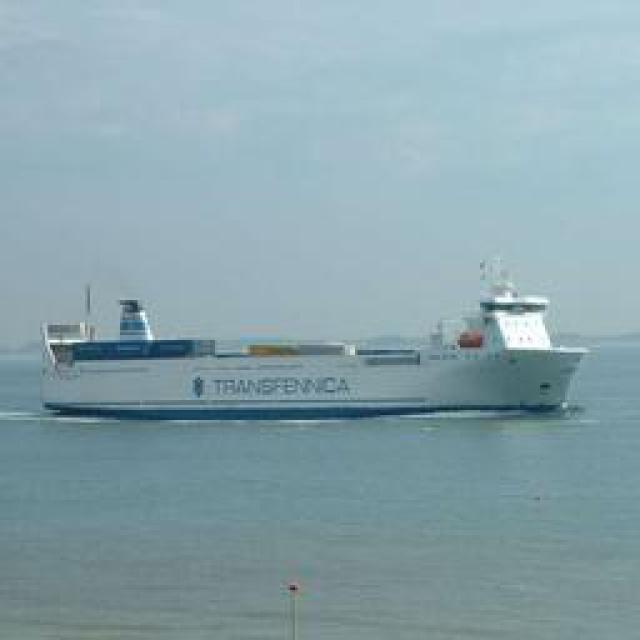Ship: (35, 256, 593, 421)
